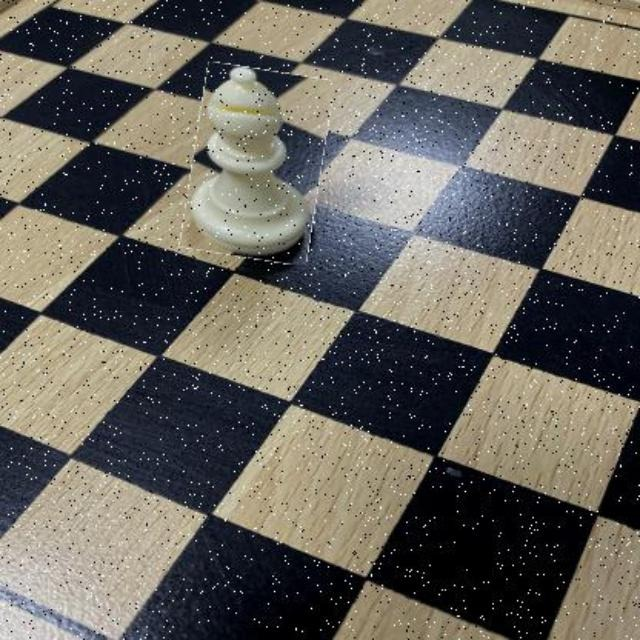white-bishop: (185, 67, 326, 263)
